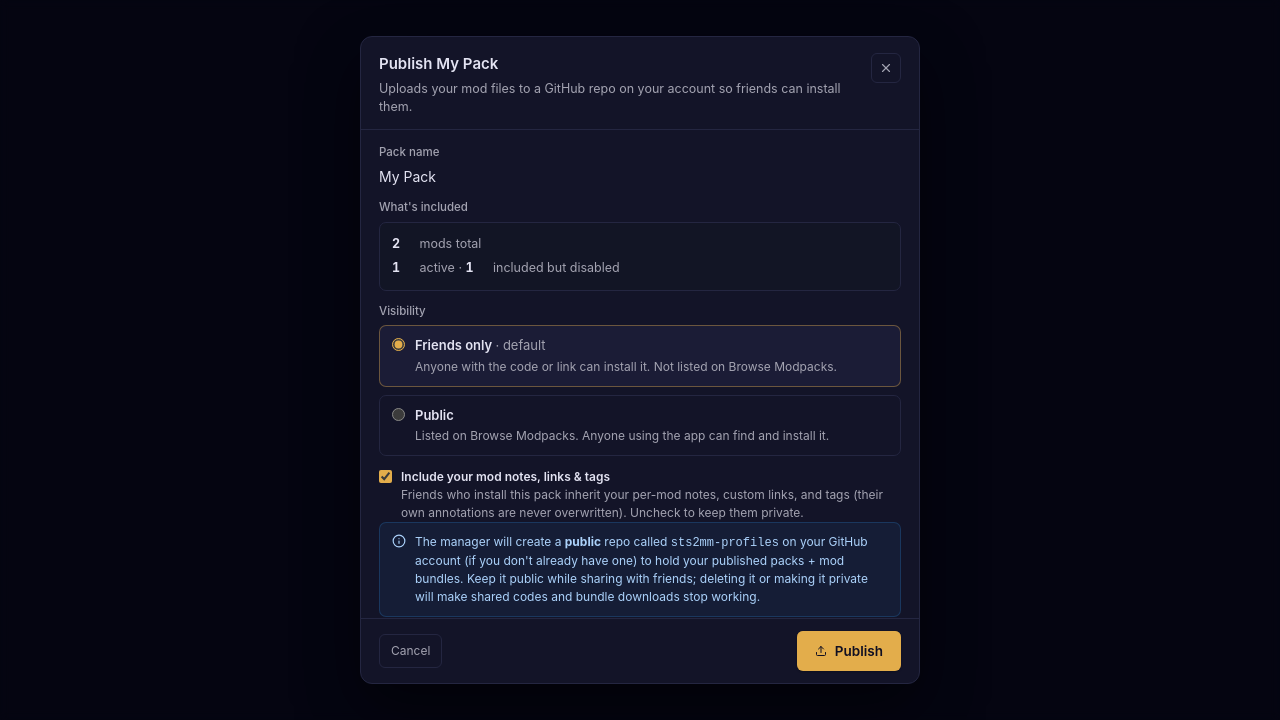
<PublishModal> › partial-fail singular: shows "1 mod failed" copy with no +more suffix
Click the button "Publish" at (849, 651), box [797, 631, 901, 671]
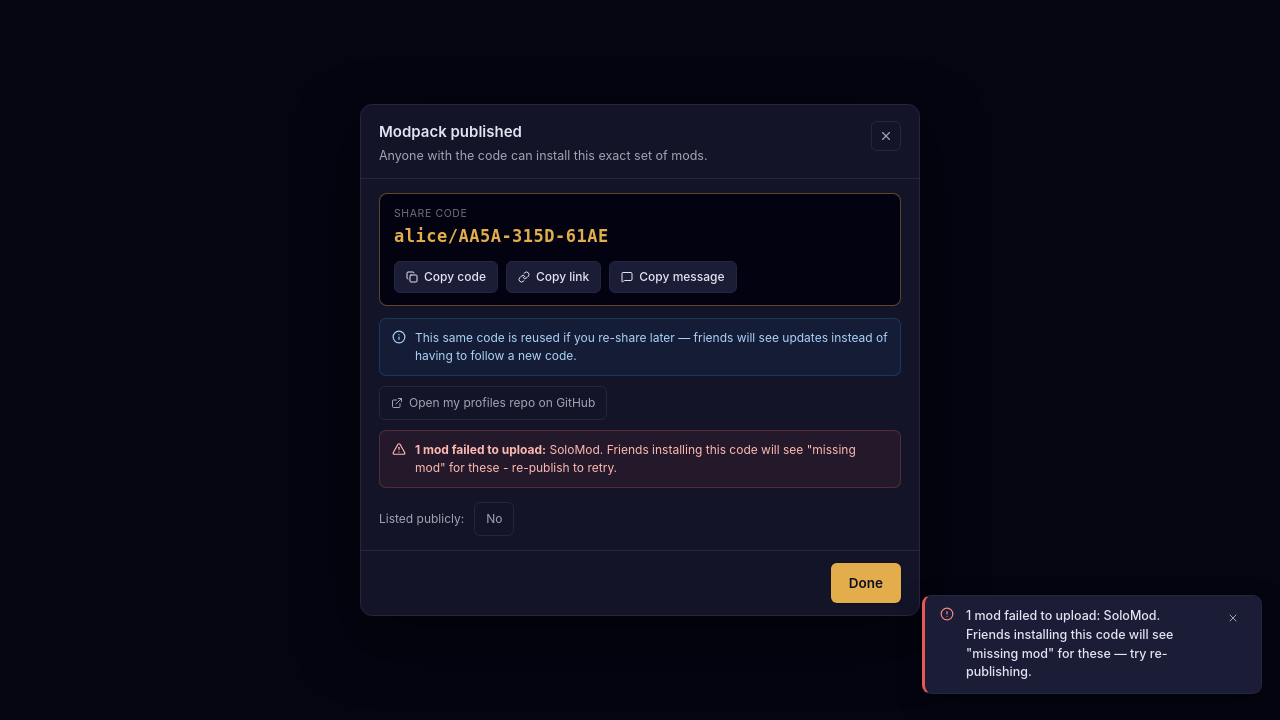
Expected: the text "Modpack published" is shown, [379, 122, 522, 141]
Expected: the text "1 mod failed to upload:" is shown, [415, 442, 546, 457]
